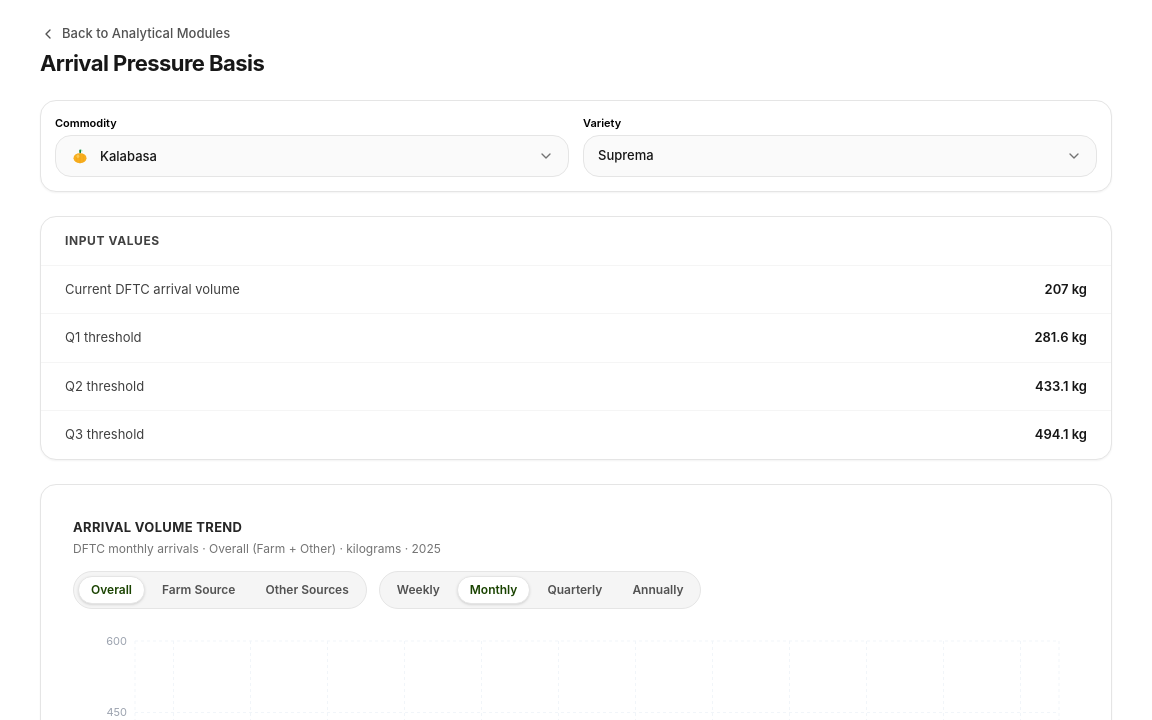
Test: Admin arrival volume trend › keeps one bar series whichever source is selected
Check: the text "Arrival Volume Trend" is shown, box [73,519,242,535]
Click the button "Farm Source" at point(199, 590), box [149,576,248,604]
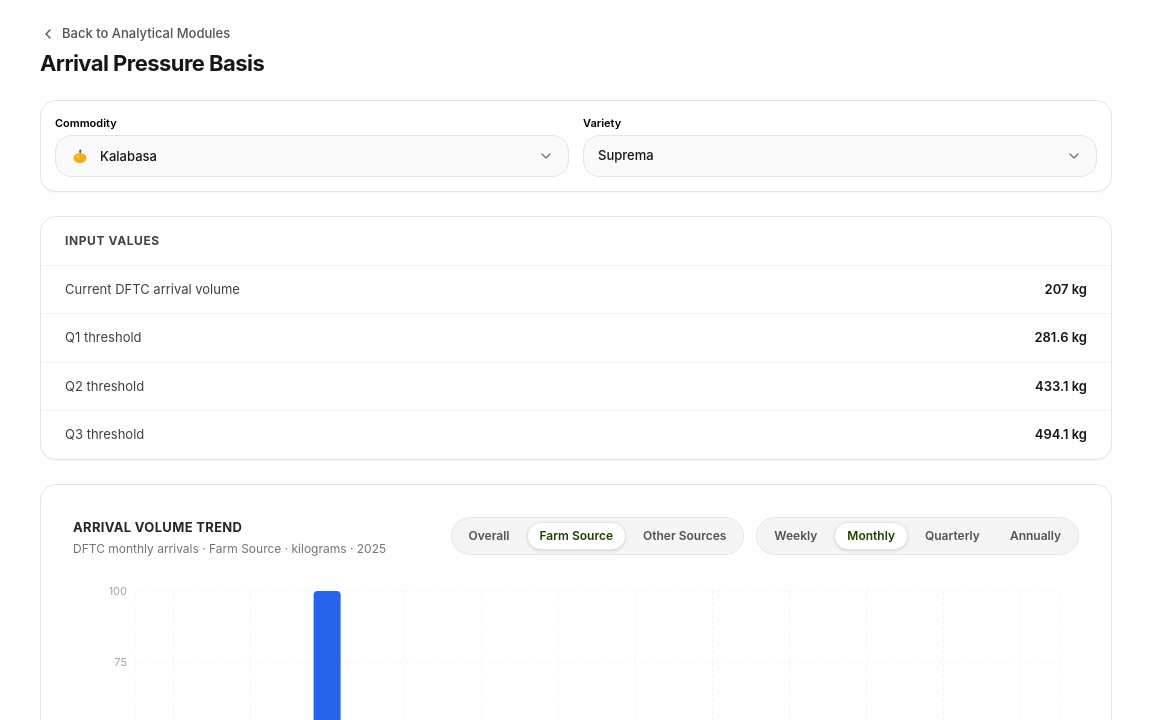
Check: the text "DFTC monthly arrivals · Farm Source · kilograms · 2025" is shown, box [73,539,386,559]
